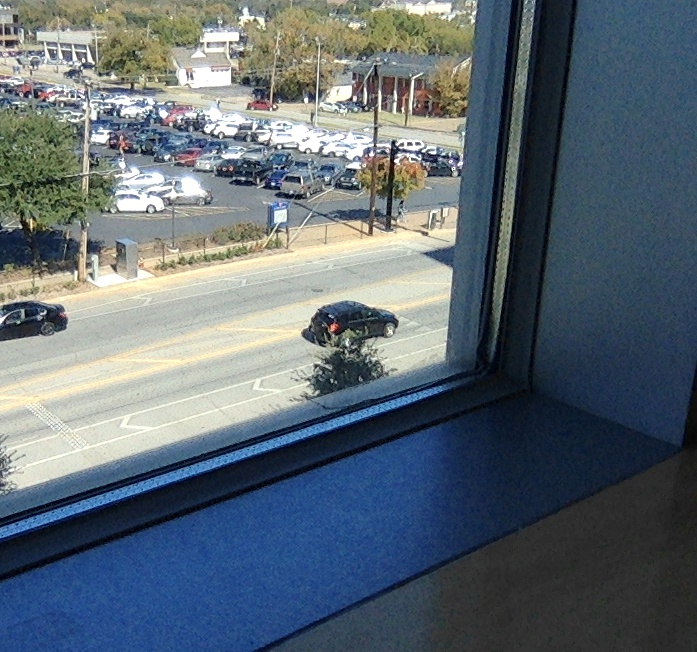car: (300, 300, 397, 352)
